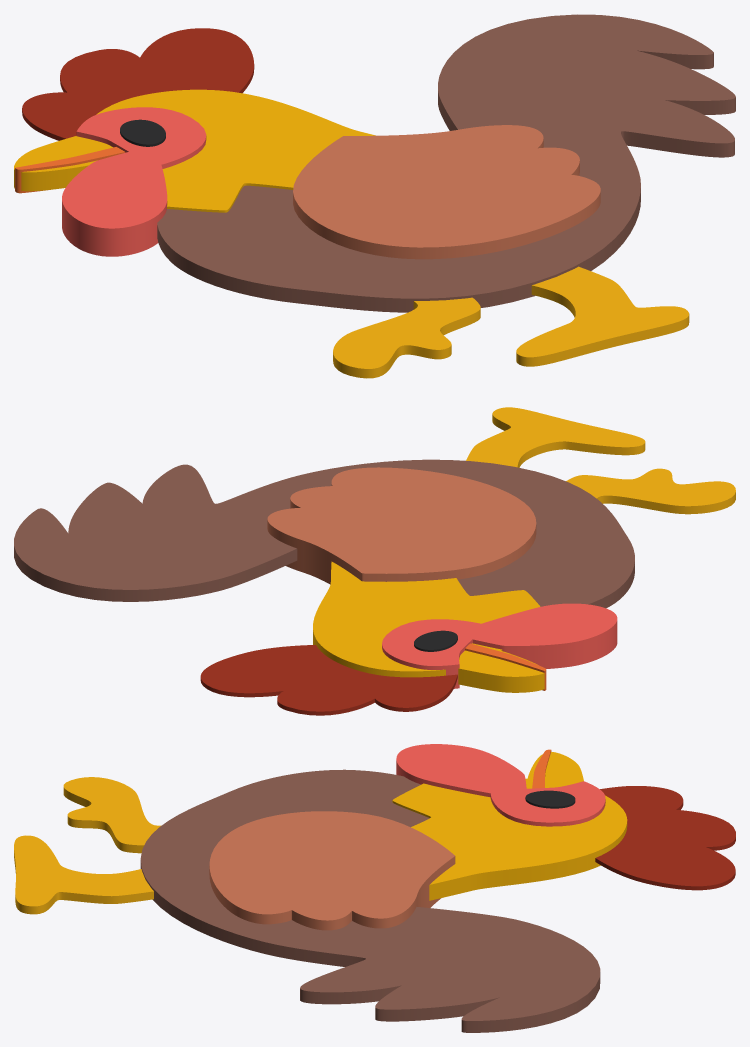
Rendered from emoji_u1f413.glb.
The picture shows the model from 3 angles, top to bottom: view 1: azimuth 30°, elevation 25°; view 2: azimuth 150°, elevation 25°; view 3: azimuth 270°, elevation 25°; orthographic projection. The views are drawn at different scales.
Parts seen in each view (by area): view 1: emoji_u1f413; view 2: emoji_u1f413; view 3: emoji_u1f413.
Boxes of the visible parts, left/top/right/bottom form: emoji_u1f413: left=14, top=14, right=735, bottom=378; emoji_u1f413: left=14, top=407, right=735, bottom=715; emoji_u1f413: left=14, top=744, right=735, bottom=1032.
Bounding box in the file's own units: 0.0292 × 0.0016 × 0.0329.
